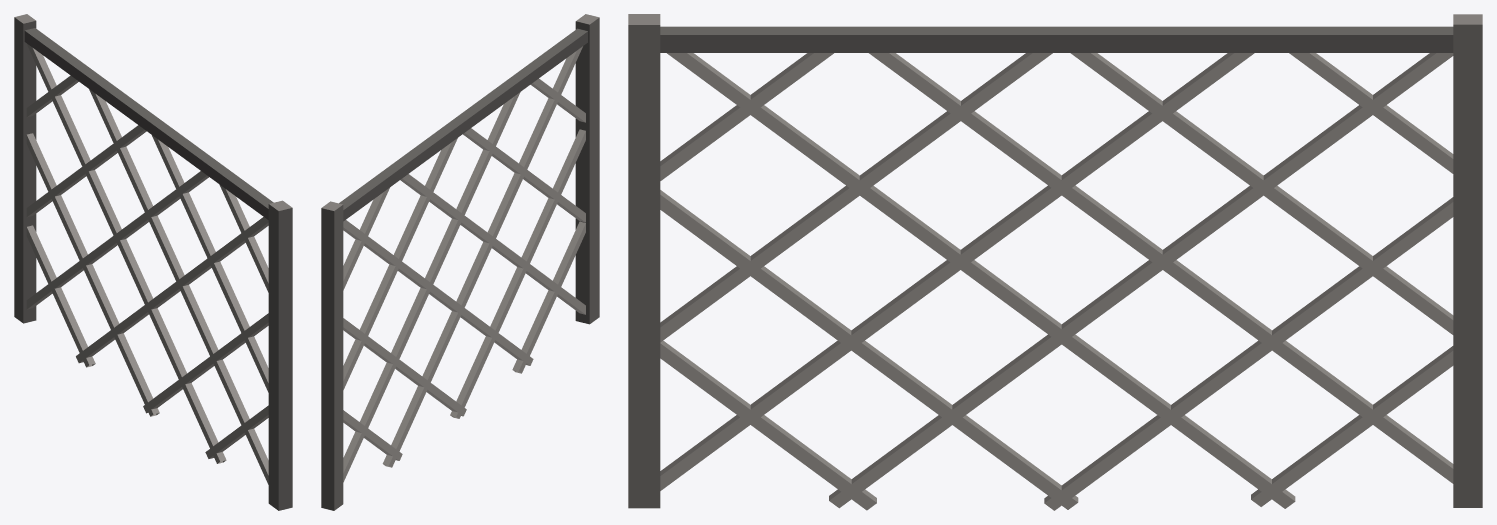
Rendered from SM_Prop_WireFence_02.fbx.
The picture shows the model from 3 angles, left to right: view 1: azimuth 30°, elevation 25°; view 2: azimuth 150°, elevation 25°; view 3: azimuth 270°, elevation 25°; orthographic projection. The views are drawn at different scales.
Parts seen in each view (by area): view 1: SM_Prop_WireFence_02; view 2: SM_Prop_WireFence_02; view 3: SM_Prop_WireFence_02.
Part boxes in pixels (x1,y1,x2,y2): SM_Prop_WireFence_02: [14, 14, 292, 510]; SM_Prop_WireFence_02: [321, 14, 599, 510]; SM_Prop_WireFence_02: [628, 14, 1482, 510].
Size of the model in its own units: 0.1576 by 3.27 by 5.18.
